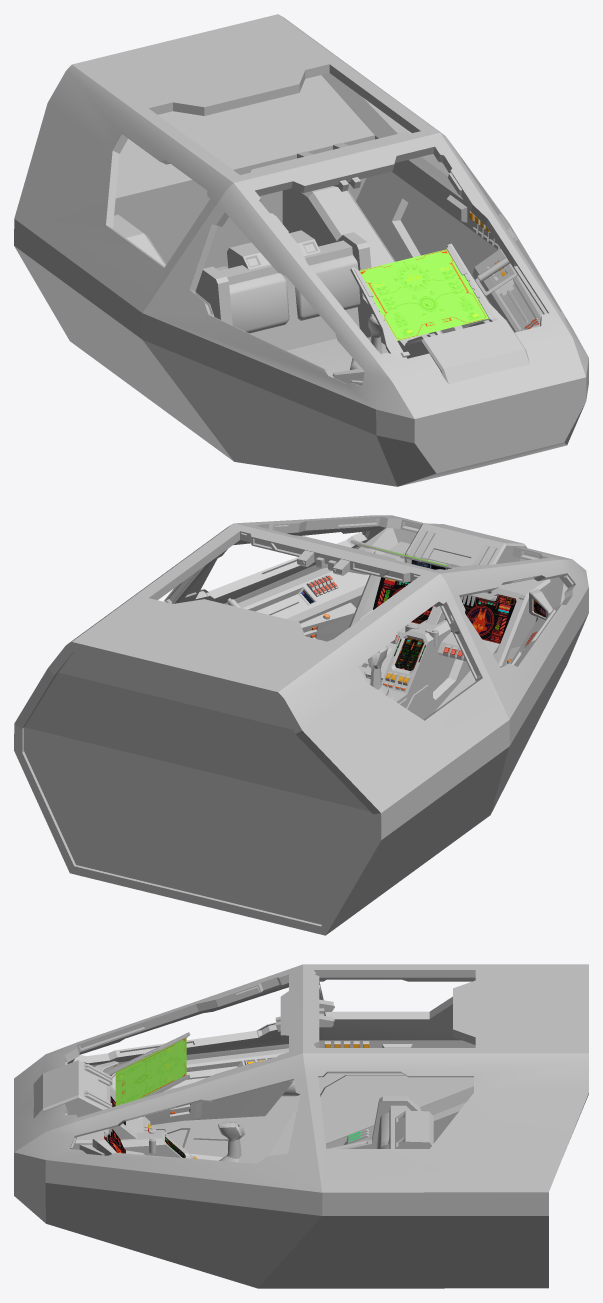
File: SF_Spaceship Cockpit.FBX
The picture shows the model from 3 angles, top to bottom: view 1: azimuth 30°, elevation 25°; view 2: azimuth 150°, elevation 25°; view 3: azimuth 270°, elevation 25°; orthographic projection. The views are drawn at different scales.
Parts seen in each view (by area): view 1: SF_Spaceship Cockpit, Spaceship_HUDs-B, Spaceship_Thrust lever; view 2: SF_Spaceship Cockpit, Spaceship_HUDs-A, Spaceship_Joystick; view 3: SF_Spaceship Cockpit, Spaceship_HUDs-B, Spaceship_HUDs-A, Spaceship_Joystick.
Part boxes in pixels (x1,y1,x2,y2): SF_Spaceship Cockpit: [14, 14, 588, 486]; Spaceship_HUDs-B: [359, 249, 488, 340]; Spaceship_Thrust lever: [475, 257, 517, 296]; SF_Spaceship Cockpit: [14, 515, 588, 935]; Spaceship_HUDs-A: [301, 560, 545, 689]; Spaceship_Joystick: [368, 646, 388, 695]; SF_Spaceship Cockpit: [14, 964, 588, 1288]; Spaceship_HUDs-B: [115, 1037, 186, 1105]; Spaceship_HUDs-A: [104, 1044, 368, 1159]; Spaceship_Joystick: [218, 1121, 244, 1162].
Size of the model in its own units: 5.02 by 3.31 by 7.69.
